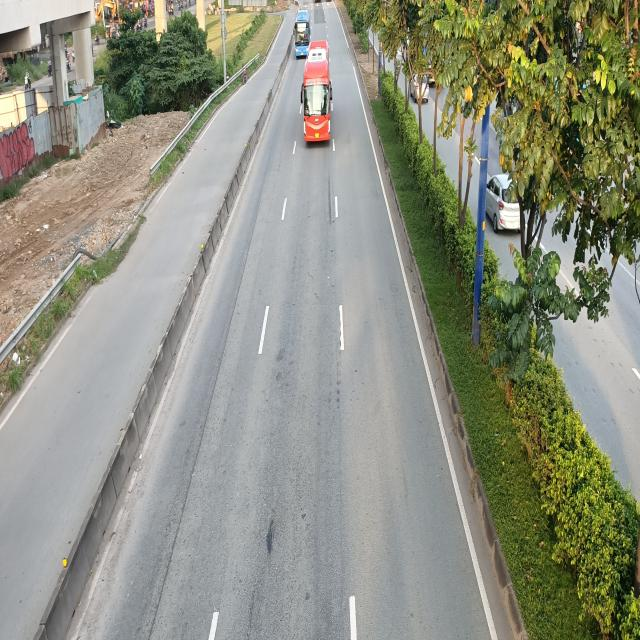coach: (300, 38, 333, 145), (293, 8, 310, 57)
